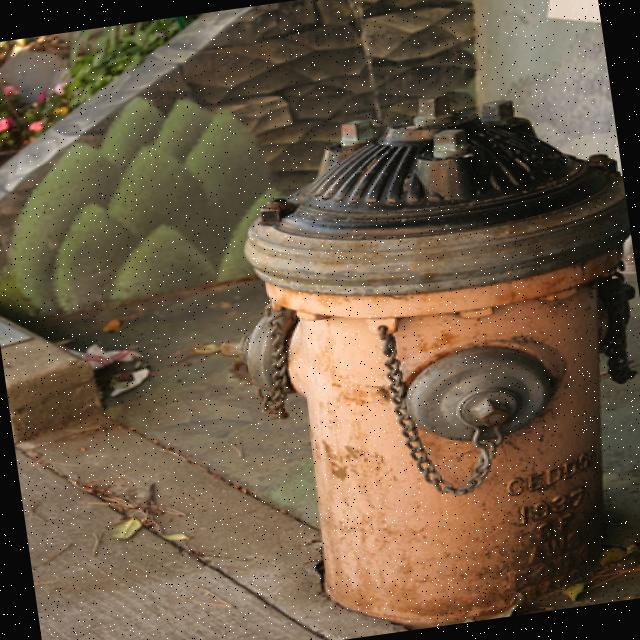fire_hydrant: (203, 68, 640, 640)
